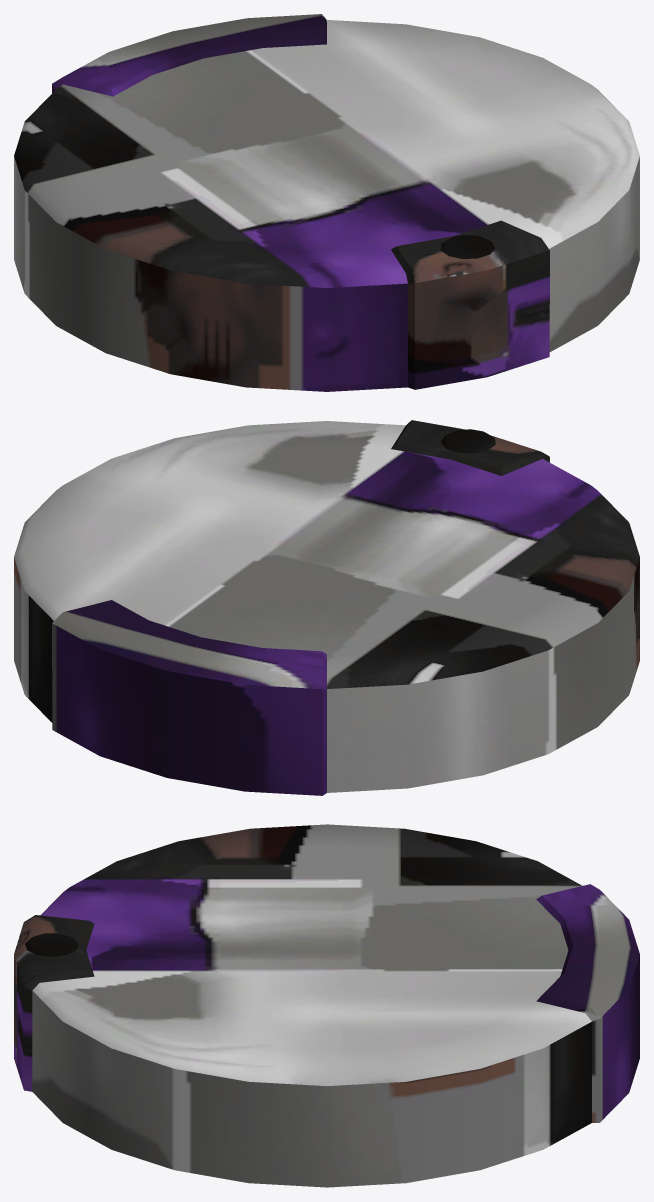
The model's file is Roomba.fbx.
3 renders of one model, top to bottom at view 1: azimuth 30°, elevation 25°; view 2: azimuth 150°, elevation 25°; view 3: azimuth 270°, elevation 25°, orthographic. The views are drawn at different scales.
Visible parts, largest first — view 1: s4studio_mesh_0; view 2: s4studio_mesh_0; view 3: s4studio_mesh_0.
Part boxes in pixels (x1,y1,x2,y2): s4studio_mesh_0: (14,14,639,391); s4studio_mesh_0: (14,420,639,795); s4studio_mesh_0: (14,824,639,1187).
Bounding box in the file's own units: 39.19 × 8.17 × 40.15.
